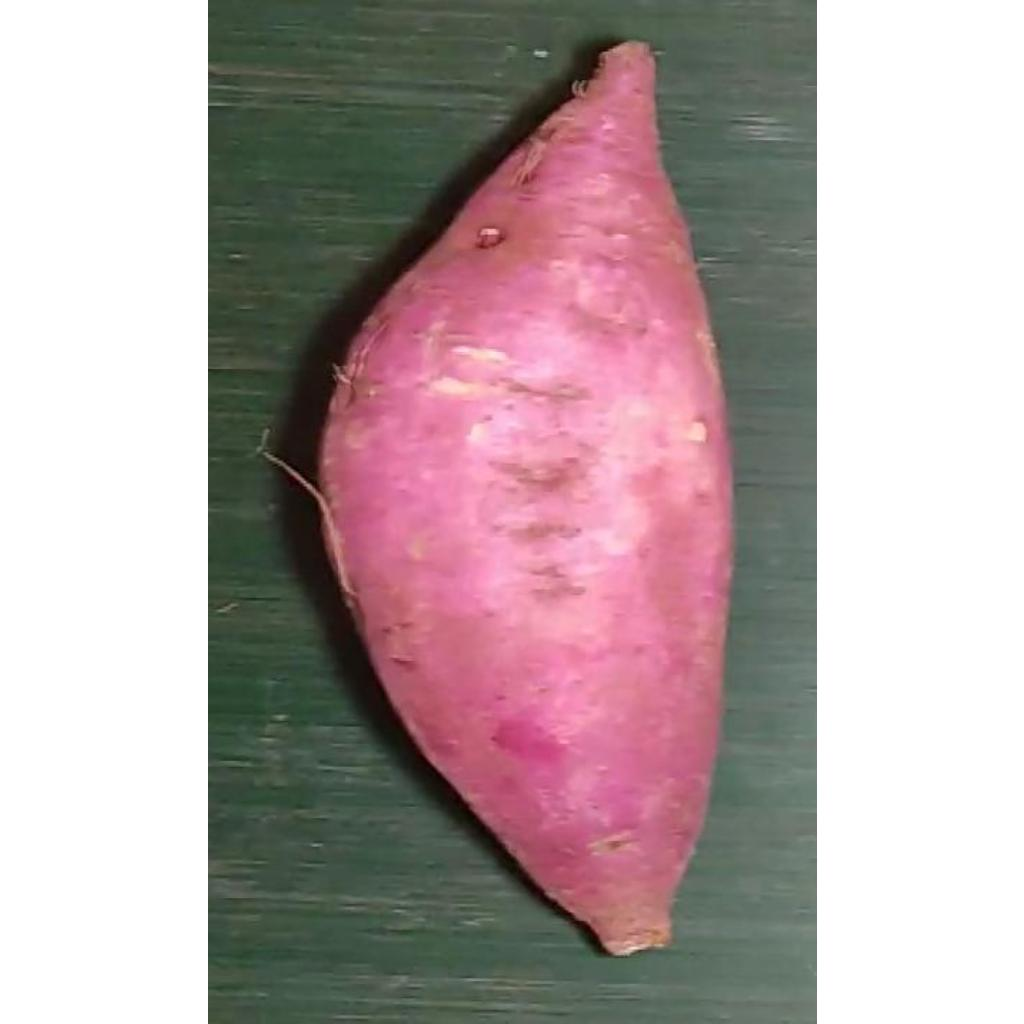Sweet Potato: (317, 41, 735, 960)
